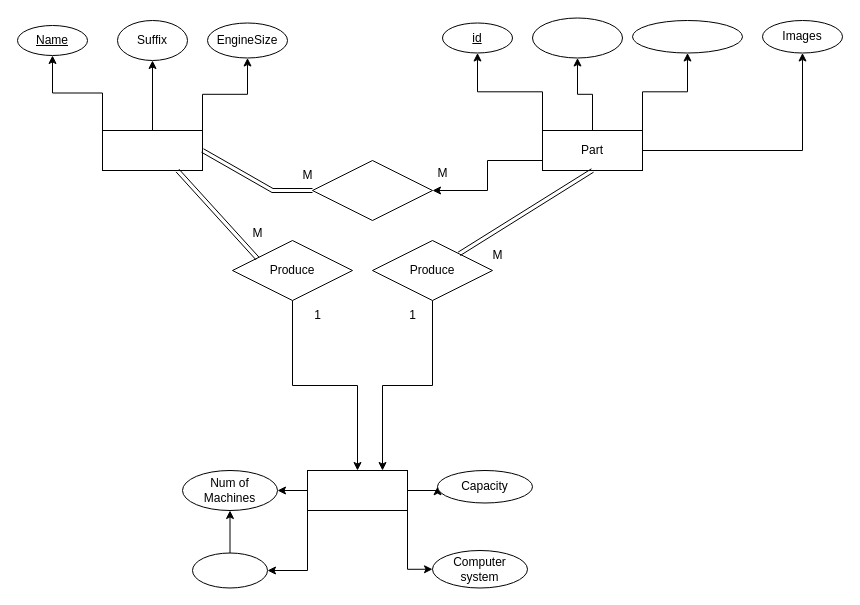
This 860x605 diagram has some shape labels left out. Each missing label, with the centre of its shape:
description: point 577,37
Factory: point 357,490
Location: point 230,570
Made From: point 372,190
Model: point 152,150
ProductionYear: point 687,36
